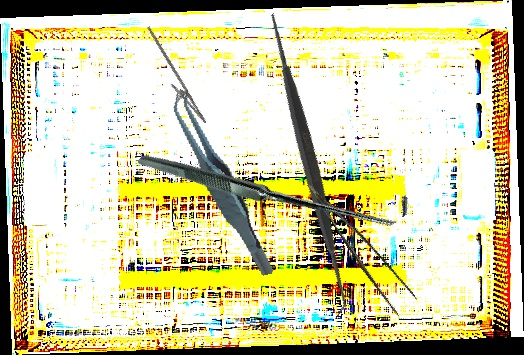Hook Surgical: (136, 44, 416, 325)
Needle Holder: (129, 26, 218, 129)
Spatula Surgical: (148, 1, 469, 320)
Tissue Forceps: (168, 78, 276, 288), (307, 168, 421, 322)
